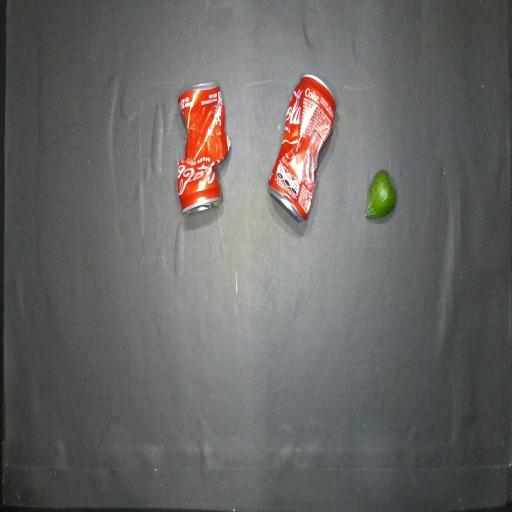higo: (365, 170, 396, 218)
lata_defectuoso: (268, 74, 336, 220), (177, 82, 230, 213)
